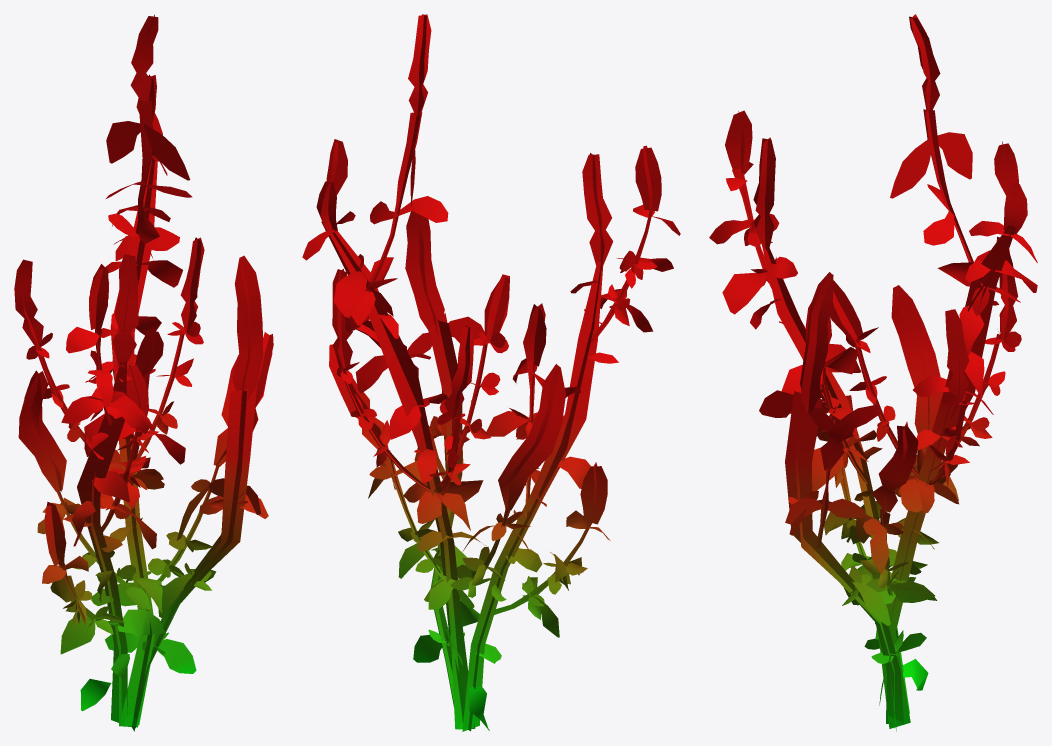
Rendered from Var2_LOD1.fbx.
The picture shows the model from 3 angles, left to right: view 1: azimuth 30°, elevation 25°; view 2: azimuth 150°, elevation 25°; view 3: azimuth 270°, elevation 25°; orthographic projection. The views are drawn at different scales.
Parts seen in each view (by area): view 1: _5b7e_Var2_LOD1; view 2: _5b7e_Var2_LOD1; view 3: _5b7e_Var2_LOD1.
Part boxes in pixels (left/top/right/bottom): _5b7e_Var2_LOD1: left=14, top=14, right=273, bottom=731; _5b7e_Var2_LOD1: left=302, top=14, right=680, bottom=731; _5b7e_Var2_LOD1: left=709, top=14, right=1037, bottom=731.
Size of the model in its own units: 36.08 by 89.03 by 36.42.
